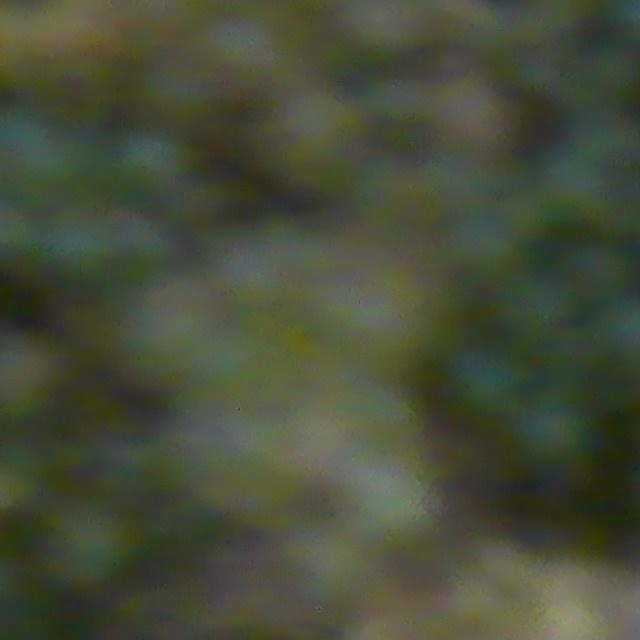SeaGrape: (48, 499, 137, 585), (112, 125, 194, 201), (449, 344, 527, 417), (516, 394, 592, 468)
